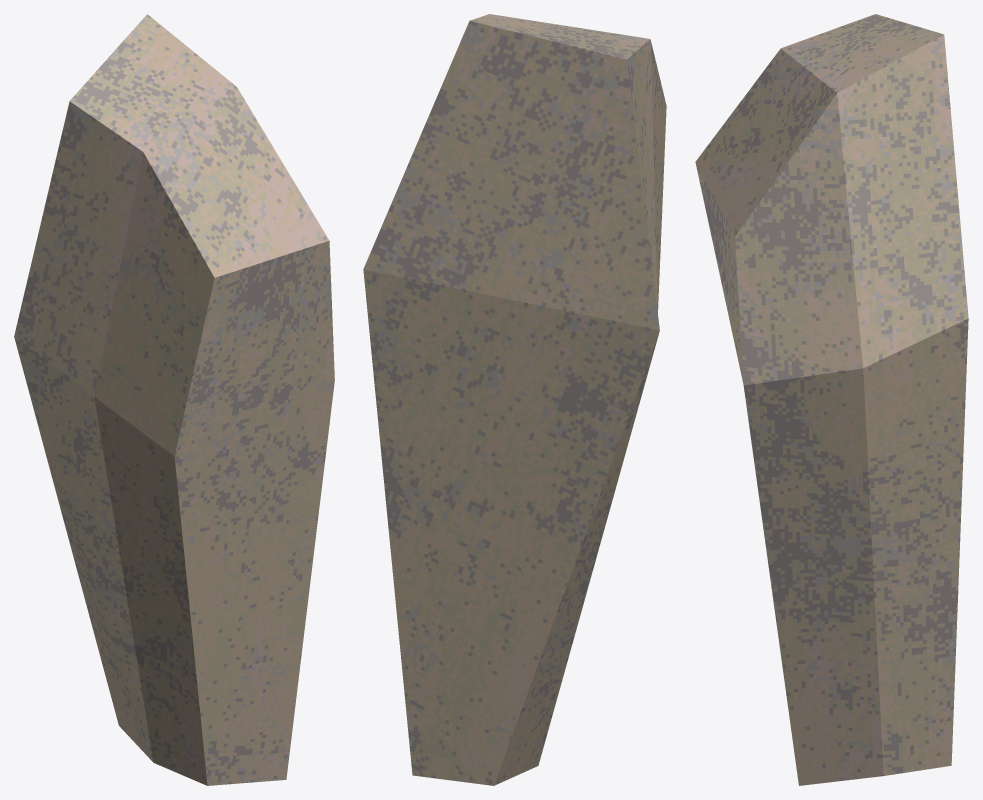
Rendered from Rock5.fbx.
The picture shows the model from 3 angles, left to right: view 1: azimuth 30°, elevation 25°; view 2: azimuth 150°, elevation 25°; view 3: azimuth 270°, elevation 25°; orthographic projection. The views are drawn at different scales.
Visible parts, largest first — view 1: Cube; view 2: Cube; view 3: Cube.
Part boxes in pixels (x1=…): Cube: x1=14, y1=14, x2=334, y2=785; Cube: x1=363, y1=14, x2=666, y2=785; Cube: x1=695, y1=14, x2=968, y2=785.
Size of the model in its own units: 78.25 by 196 by 67.47.
